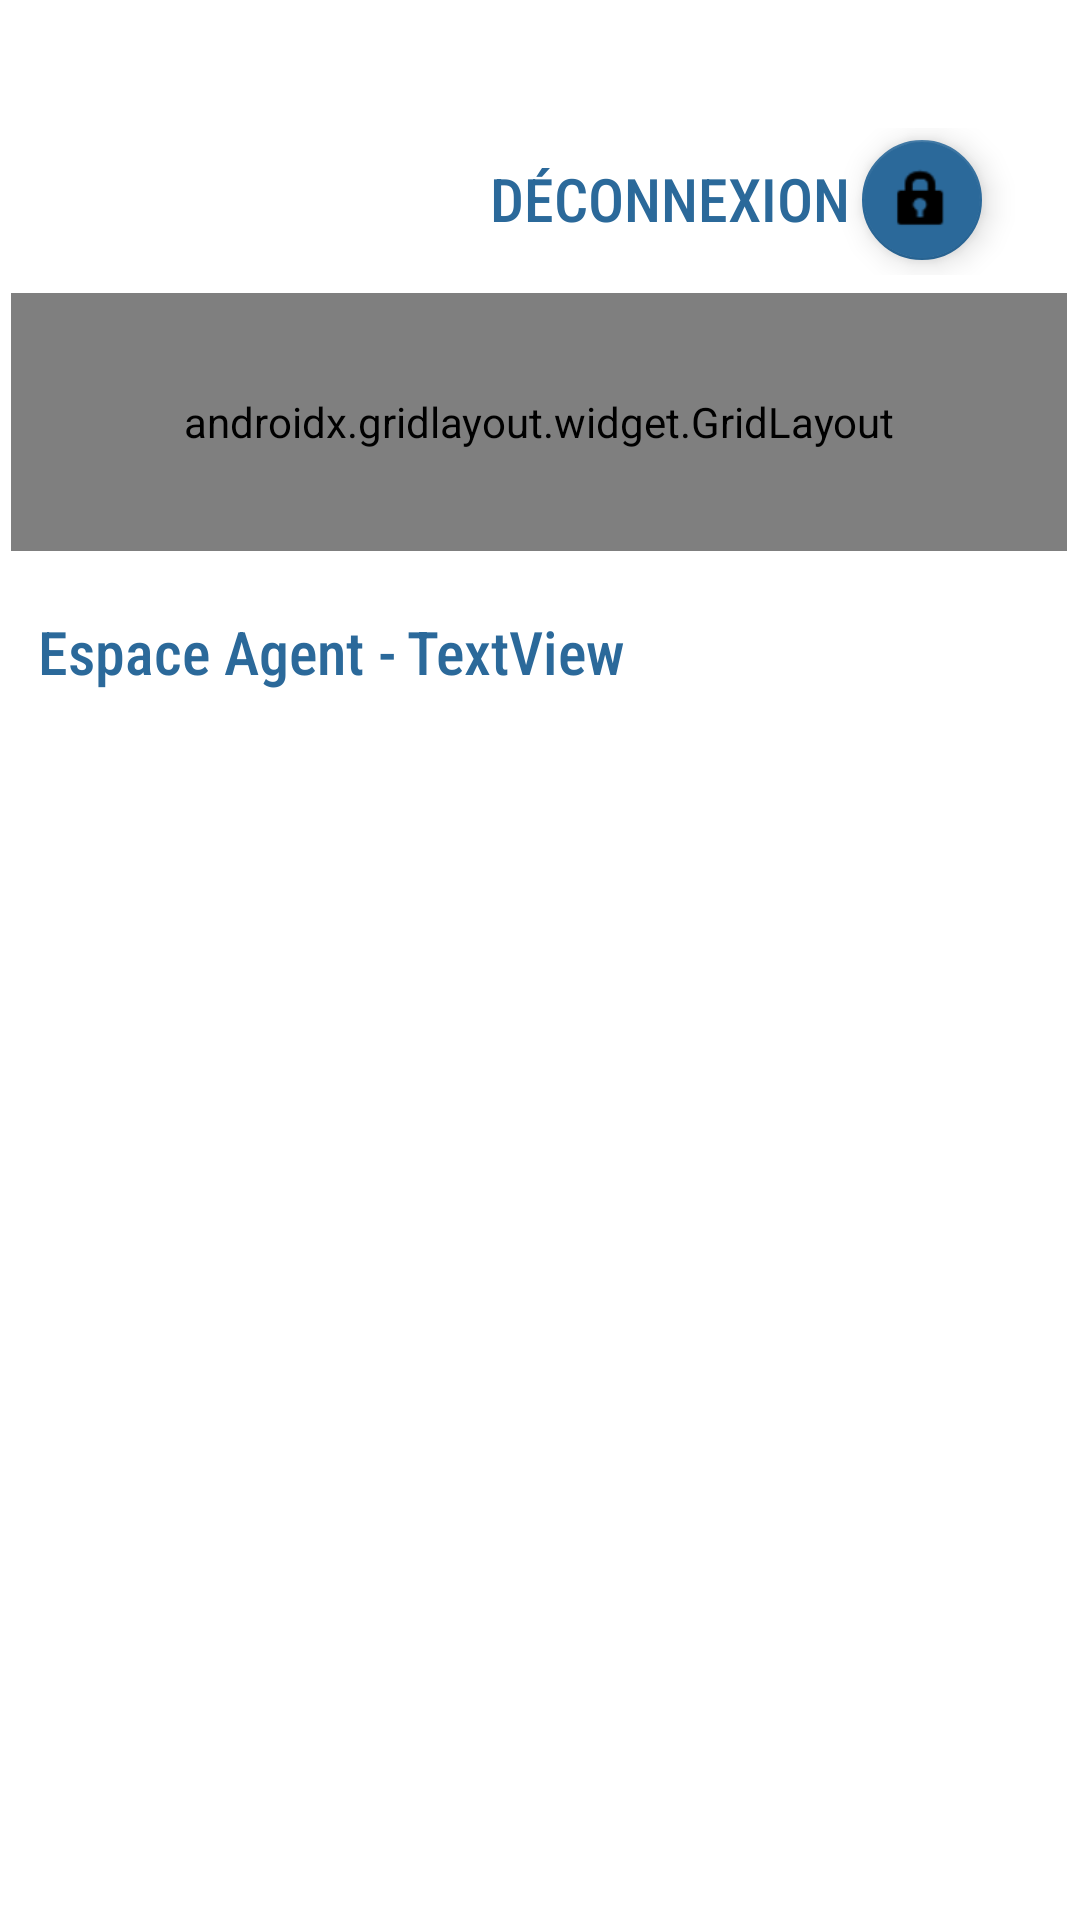

Icons on this 1080px x 1920px Android screen, each with its box as (x1, y1, x2, y2):
lock idle: (862, 140, 984, 261)
